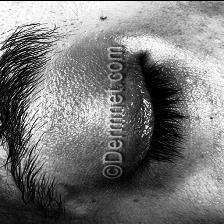Unclassified: (130, 18, 224, 198), (42, 25, 104, 202)
